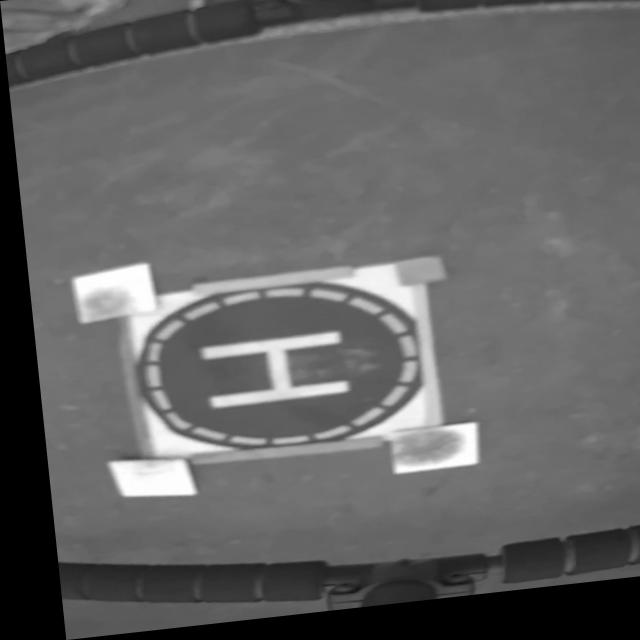Helipad: (189, 334, 345, 412)
